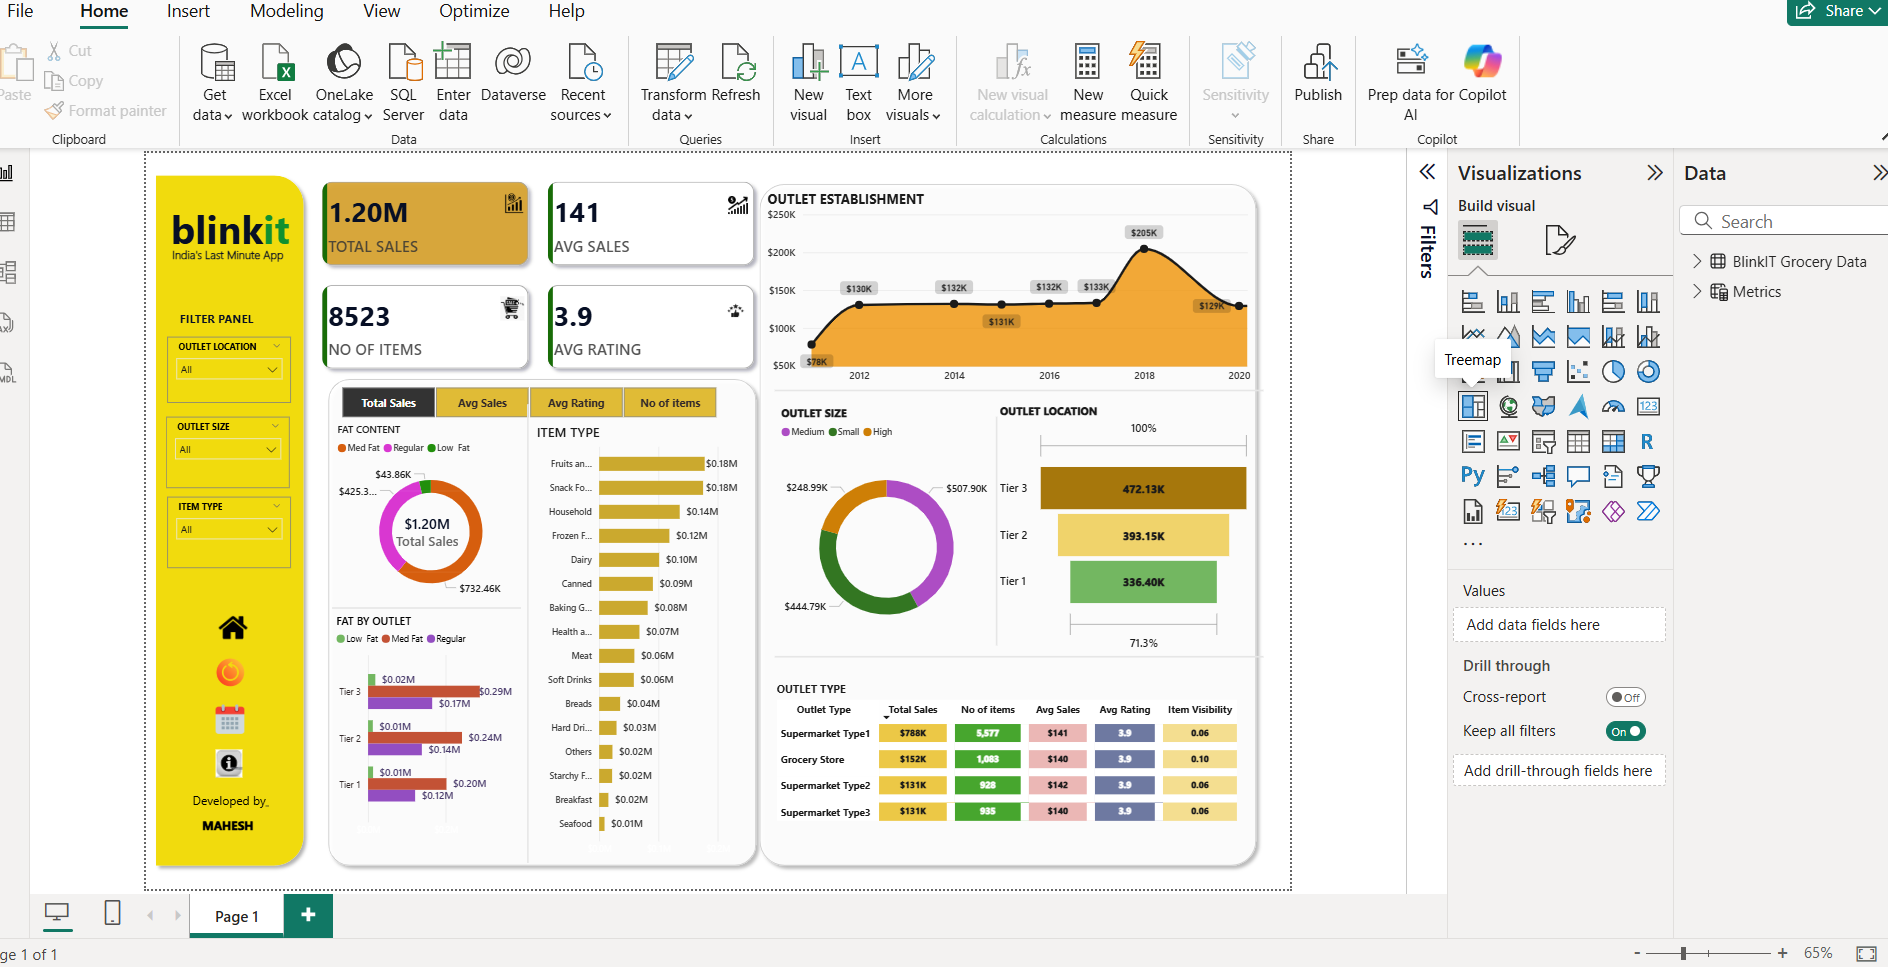

Layout of this report page (visuals, bound fields, positions):
{"tool":"powerbi","page":{"name":"Page 1","canvas":[1400,900],"ordinal":0},"visuals":[{"type":"shape","box":[3.1,18.3,198.7,862.1],"z":0},{"type":"textbox","box":[19.9,55,166.6,74.9],"z":1000},{"type":"textbox","box":[16.8,110.1,166.6,39.7],"z":2000},{"type":"cardVisual","fields":{"Data":["BlinkIT Grocery Data.Total Sales","BlinkIT Grocery Data.Avg Sales","BlinkIT Grocery Data.No of items","BlinkIT Grocery Data.Avg Rating"]},"box":[198.7,18.3,562.5,262.9],"z":3000},{"type":"shape","box":[214,267.5,541.1,612.9],"z":4000},{"type":"donutChart","title":"FAT CONTENT","fields":{"Y":["BlinkIT Grocery Data.Total Sales"],"Category":["BlinkIT Grocery Data.Item Fat Content"]},"box":[229.3,330.2,238.5,226.2],"z":5000},{"type":"slicer","fields":{"Values":["Metrics.Metrics"]},"box":[214,279.7,507.5,50.4],"z":6000},{"type":"cardVisual","fields":{"Data":["BlinkIT Grocery Data.Total Sales"]},"box":[258.3,408.1,171.2,110.1],"z":7000},{"type":"clusteredBarChart","title":"FAT BY OUTLET","fields":{"Y":["BlinkIT Grocery Data.Total Sales"],"Category":["BlinkIT Grocery Data.Outlet Location Type"],"Series":["BlinkIT Grocery Data.Item Fat Content"]},"box":[227.8,562.5,240,282.8],"z":8000},{"type":"shape","box":[227.8,539.6,230.8,33.6],"z":9000},{"type":"shape","box":[441.7,307.2,50.4,561],"z":10000},{"type":"clusteredBarChart","title":"ITEM TYPE","fields":{"Y":["BlinkIT Grocery Data.Total Sales"],"Category":["BlinkIT Grocery Data.Item Type"]},"box":[467.7,330.2,275.1,538],"z":11000},{"type":"shape","box":[741.3,29,625.2,851.4],"z":12000},{"type":"lineChart","title":"OUTLET ESTABLISHMENT","fields":{"Category":["BlinkIT Grocery Data.Outlet Establishment Year"],"Y":["BlinkIT Grocery Data.Total Sales"]},"box":[755.1,39.7,600.7,250.7],"z":13000},{"type":"shape","box":[768.9,275.1,597.7,30.6],"z":14000},{"type":"donutChart","title":"OUTLET SIZE","fields":{"Y":["BlinkIT Grocery Data.Total Sales"],"Category":["BlinkIT Grocery Data.Outlet Size"]},"box":[771.9,305.7,267.5,310.3],"z":15000},{"type":"funnel","title":"OUTLET LOCATION","fields":{"Category":["BlinkIT Grocery Data.Outlet Location Type"],"Y":["Sum(BlinkIT Grocery Data.Sales)"]},"box":[1039.4,305.7,316.4,310.3],"z":16000},{"type":"shape","box":[1015,322.5,50.4,279.7],"z":17000},{"type":"shape","box":[768.9,599.2,597.7,33.6],"z":18000},{"type":"pivotTable","title":"OUTLET TYPE","fields":{"Rows":["BlinkIT Grocery Data.Outlet Type"],"Values":["BlinkIT Grocery Data.Total Sales","BlinkIT Grocery Data.No of items","BlinkIT Grocery Data.Avg Sales","BlinkIT Grocery Data.Avg Rating","Avg(BlinkIT Grocery Data.Item Visibility)"]},"box":[761.2,635.9,594.6,221.6],"z":19000},{"type":"slicer","fields":{"Values":["BlinkIT Grocery Data.Outlet Location Type"]},"box":[26,224.7,151.3,81],"z":20000},{"type":"slicer","fields":{"Values":["BlinkIT Grocery Data.Outlet Size"]},"box":[24.5,322.5,151.3,87.1],"z":21000},{"type":"slicer","fields":{"Values":["BlinkIT Grocery Data.Item Type"]},"box":[26,420.3,151.3,87.1],"z":22000},{"type":"textbox","box":[36.7,188,140.6,50.4],"z":23000},{"type":"image","box":[84.1,557.9,45,45],"z":24000},{"type":"image","box":[78,609.9,50.4,50.4],"z":25000},{"type":"image","box":[79.5,669.5,45.9,45.9],"z":26000},{"type":"image","box":[79.5,724.5,44.3,44.3],"z":27000},{"type":"textbox","box":[52,776.5,114.6,30.6],"z":28000},{"type":"textbox","box":[48.9,807.1,102.4,38.2],"z":29000}]}

Visuals, with their boxes on the page's 1400x900 design canvas (x1, y1, x2, y2). These are canvas units, not pixel positions in the 1888x967 screenshot, which may show the page scaled, cropped or inside an application window:
shape: left=3, top=18, right=202, bottom=880
textbox: left=20, top=55, right=186, bottom=130
textbox: left=17, top=110, right=183, bottom=150
cardVisual - BlinkIT Grocery Data.Total Sales x BlinkIT Grocery Data.Avg Sales: left=199, top=18, right=761, bottom=281
shape: left=214, top=268, right=755, bottom=880
"FAT CONTENT" donutChart: left=229, top=330, right=468, bottom=556
slicer - Metrics.Metrics: left=214, top=280, right=722, bottom=330
cardVisual - BlinkIT Grocery Data.Total Sales: left=258, top=408, right=430, bottom=518
"FAT BY OUTLET" clusteredBarChart: left=228, top=562, right=468, bottom=845
shape: left=228, top=540, right=459, bottom=573
shape: left=442, top=307, right=492, bottom=868
"ITEM TYPE" clusteredBarChart: left=468, top=330, right=743, bottom=868
shape: left=741, top=29, right=1366, bottom=880
"OUTLET ESTABLISHMENT" lineChart: left=755, top=40, right=1356, bottom=290
shape: left=769, top=275, right=1367, bottom=306
"OUTLET SIZE" donutChart: left=772, top=306, right=1039, bottom=616
"OUTLET LOCATION" funnel: left=1039, top=306, right=1356, bottom=616
shape: left=1015, top=322, right=1065, bottom=602
shape: left=769, top=599, right=1367, bottom=633
"OUTLET TYPE" pivotTable: left=761, top=636, right=1356, bottom=858
slicer - BlinkIT Grocery Data.Outlet Location Type: left=26, top=225, right=177, bottom=306
slicer - BlinkIT Grocery Data.Outlet Size: left=24, top=322, right=176, bottom=410
slicer - BlinkIT Grocery Data.Item Type: left=26, top=420, right=177, bottom=507
textbox: left=37, top=188, right=177, bottom=238
image: left=84, top=558, right=129, bottom=603
image: left=78, top=610, right=128, bottom=660
image: left=80, top=670, right=125, bottom=715
image: left=80, top=724, right=124, bottom=769
textbox: left=52, top=776, right=167, bottom=807
textbox: left=49, top=807, right=151, bottom=845
